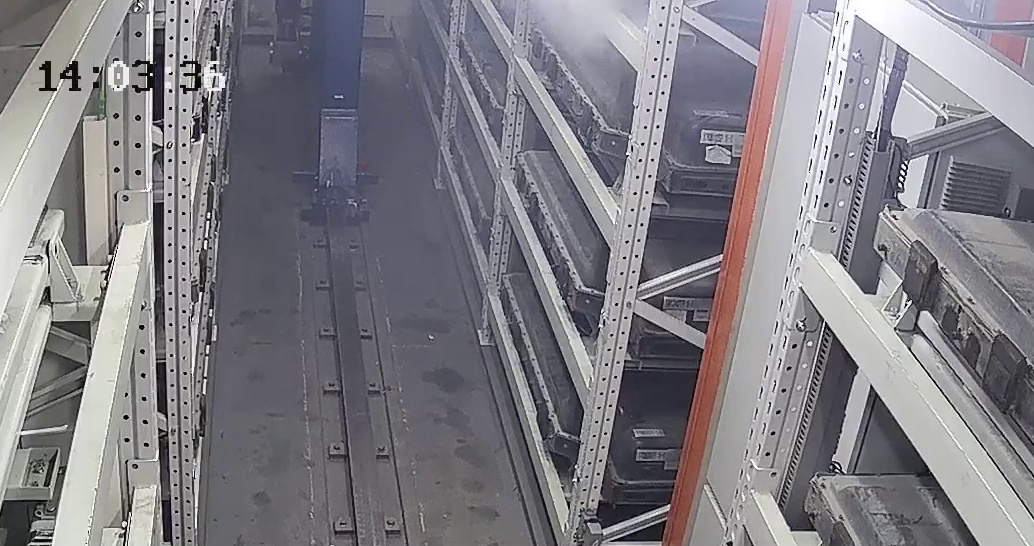smoke: (545, 5, 616, 67)
